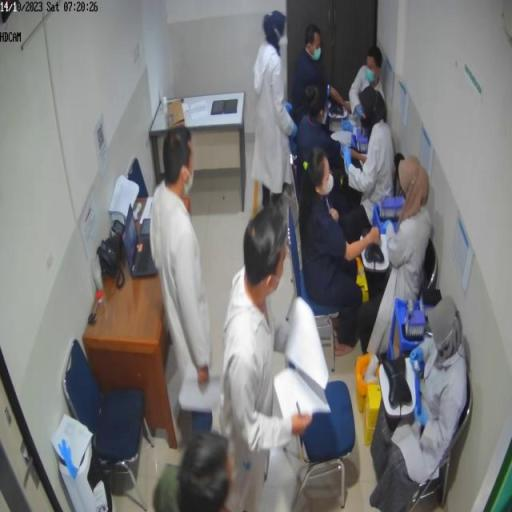person: (220, 204, 329, 509), (371, 298, 468, 509), (300, 147, 385, 353), (151, 127, 214, 390), (364, 160, 434, 360), (251, 12, 298, 218), (297, 85, 351, 216), (155, 432, 235, 512), (347, 88, 396, 217), (293, 25, 348, 129), (350, 45, 385, 116)
